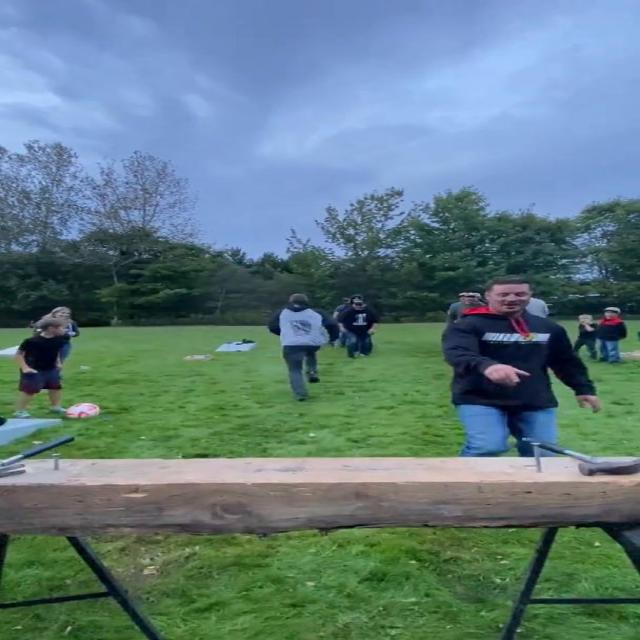hammer: (522, 437, 640, 475), (0, 437, 73, 476)
